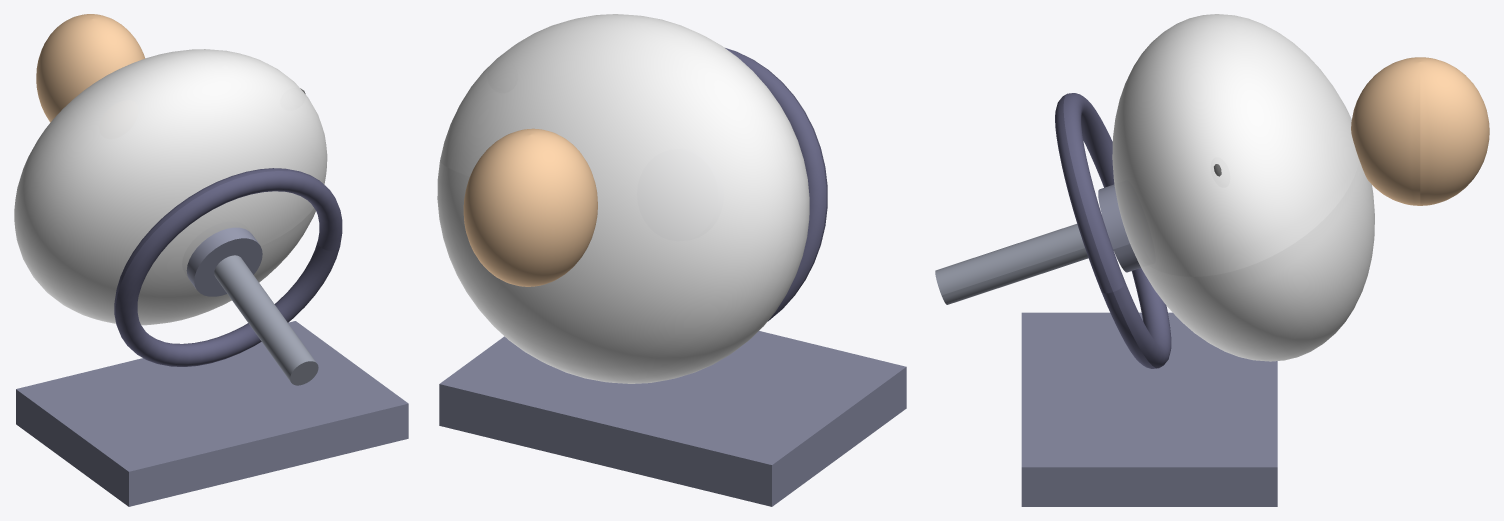
File: airbag.glb
3 views of the same model, side by side, from view 1: azimuth 30°, elevation 25°; view 2: azimuth 150°, elevation 25°; view 3: azimuth 270°, elevation 25° (orthographic). The views are drawn at different scales.
Visible parts, largest first — view 1: ถุงลมที่พองตัว, ฐานคอนโซล, พวงมาลัย, ศีรษะหุ่นทดสอบ, แกนพวงมาลัย, ดุมพวงมาลัย; view 2: ถุงลมที่พองตัว, ฐานคอนโซล, ศีรษะหุ่นทดสอบ, พวงมาลัย; view 3: ถุงลมที่พองตัว, ฐานคอนโซล, ศีรษะหุ่นทดสอบ, พวงมาลัย, แกนพวงมาลัย, ดุมพวงมาลัย.
Boxes of the visible parts, x1,y1,x2,y2 form: ถุงลมที่พองตัว: [14, 49, 327, 325]; ฐานคอนโซล: [16, 321, 408, 506]; พวงมาลัย: [114, 168, 342, 366]; ศีรษะหุ่นทดสอบ: [36, 14, 145, 122]; แกนพวงมาลัย: [214, 255, 318, 385]; ดุมพวงมาลัย: [186, 227, 262, 296]; ถุงลมที่พองตัว: [437, 14, 809, 383]; ฐานคอนโซล: [439, 331, 906, 506]; ศีรษะหุ่นทดสอบ: [463, 128, 597, 286]; พวงมาลัย: [725, 48, 827, 321]; ถุงลมที่พองตัว: [1112, 14, 1374, 361]; ฐานคอนโซล: [1021, 312, 1277, 506]; ศีรษะหุ่นทดสอบ: [1351, 57, 1489, 205]; พวงมาลัย: [1055, 93, 1171, 368]; แกนพวงมาลัย: [935, 224, 1088, 304]; ดุมพวงมาลัย: [1098, 184, 1140, 272].
Size of the model in its own units: 0.52 by 0.5979 by 0.7584.
